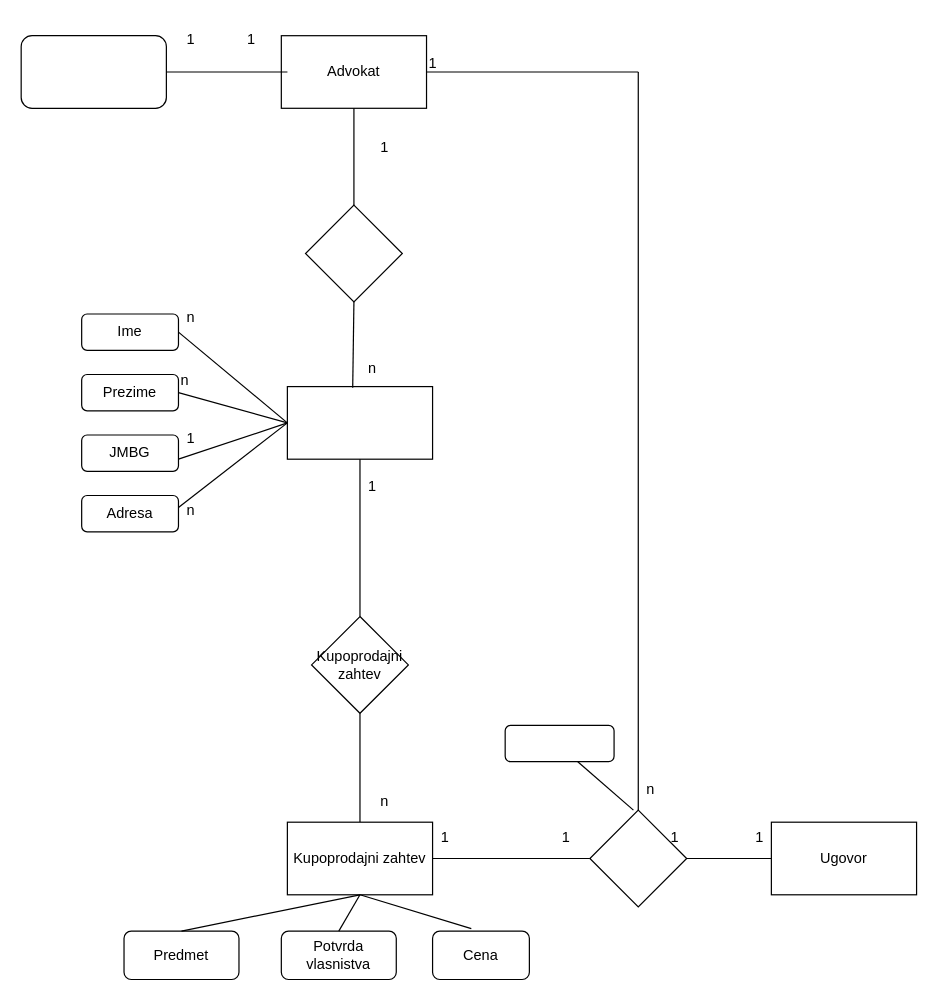
Some shapes in this 938 by 1001 pixel diagram are drawn without their labels. Each missing label, with the box of its shape:
Klijent: (286, 385, 433, 459)
Korisnicko ime: (20, 34, 166, 108)
Novi klijent: (304, 204, 402, 302)
Odluka: (589, 809, 687, 907)
Status: (504, 724, 614, 762)
